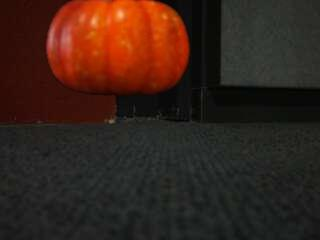Pumpkin: (46, 1, 191, 98)
